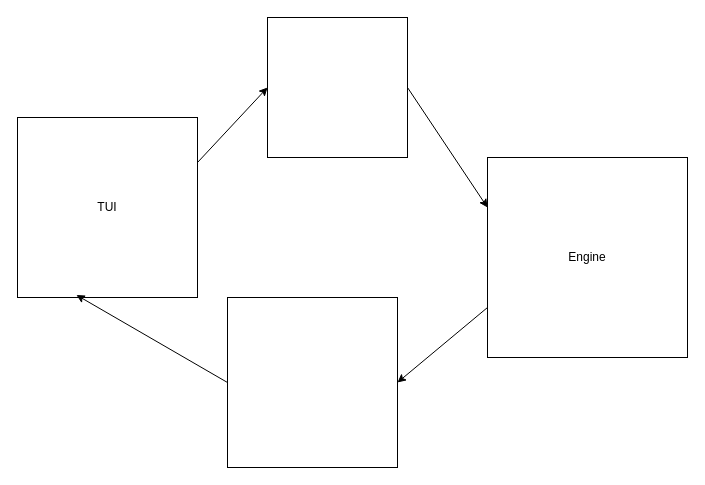
This 705x485 diagram has some shape labels left out. The shapes that lost their labels are listed below. From the top down, each one's centre as x and y in pixels, then its label:
At [337,87]: "Representation of User Input".
At [312,382]: "UI Representation of State".
